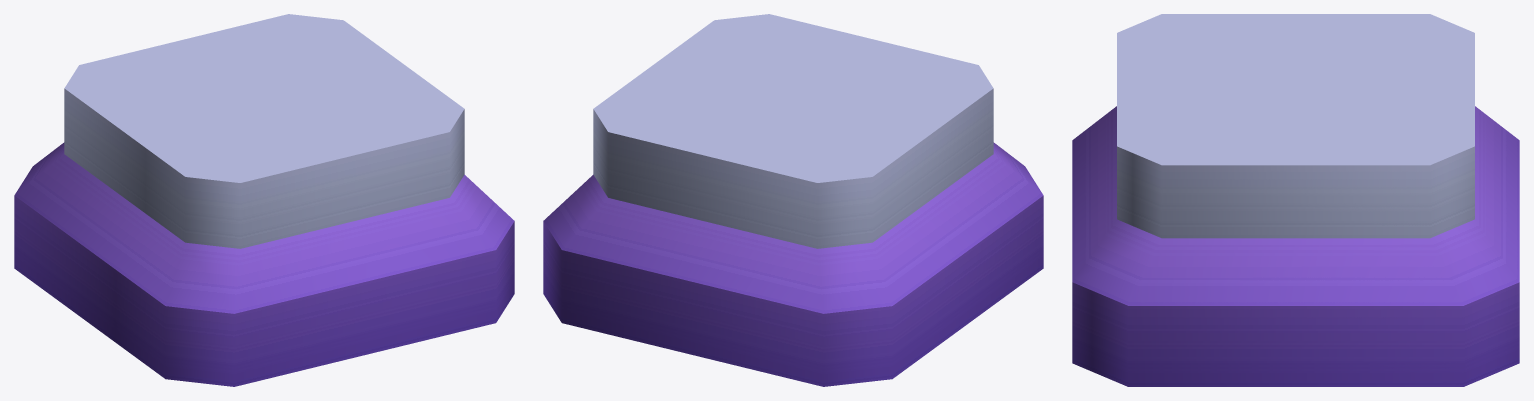
File: tower-square-bottom-a.glb
The picture shows the model from 3 angles, left to right: view 1: azimuth 30°, elevation 25°; view 2: azimuth 150°, elevation 25°; view 3: azimuth 270°, elevation 25°; orthographic projection. The views are drawn at different scales.
Parts seen in each view (by area): view 1: tower-square-bottom-a; view 2: tower-square-bottom-a; view 3: tower-square-bottom-a.
Part boxes in pixels (bbox=[...]): tower-square-bottom-a: bbox=[14, 14, 514, 386]; tower-square-bottom-a: bbox=[543, 14, 1043, 386]; tower-square-bottom-a: bbox=[1072, 14, 1519, 386].
Size of the model in its own units: 1 by 0.5001 by 1.
Materials: 1 (1 with a texture image).
